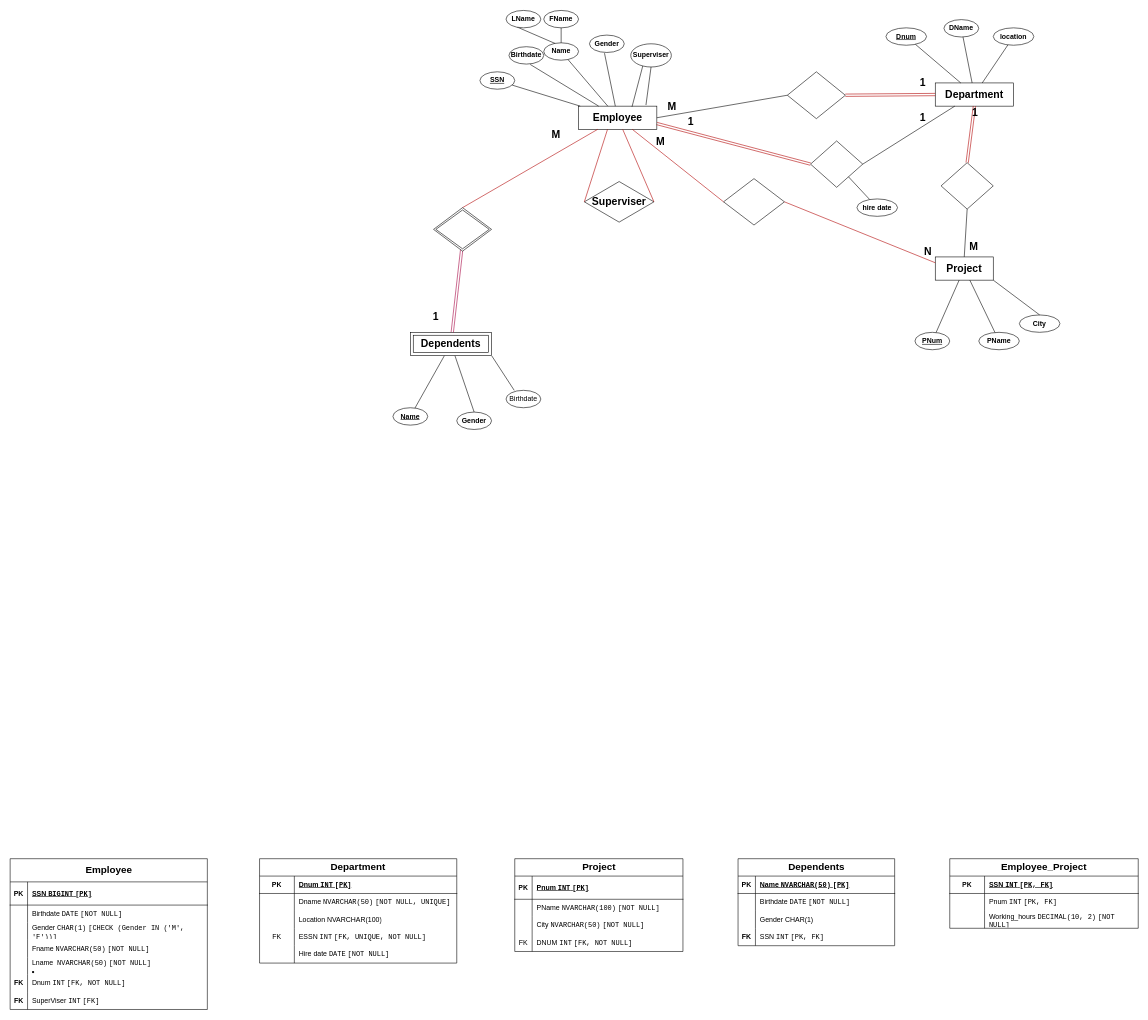
The diagram is 1148 pixels wide and 1020 high, and some of its shapes have lost their labels. The centre of each missing label's shape, as x and y in pixels:
Has: the point at 462,229
Manage: the point at 836,163
Own: the point at 966,185
Work: the point at 816,95
Work on: the point at 753,201
